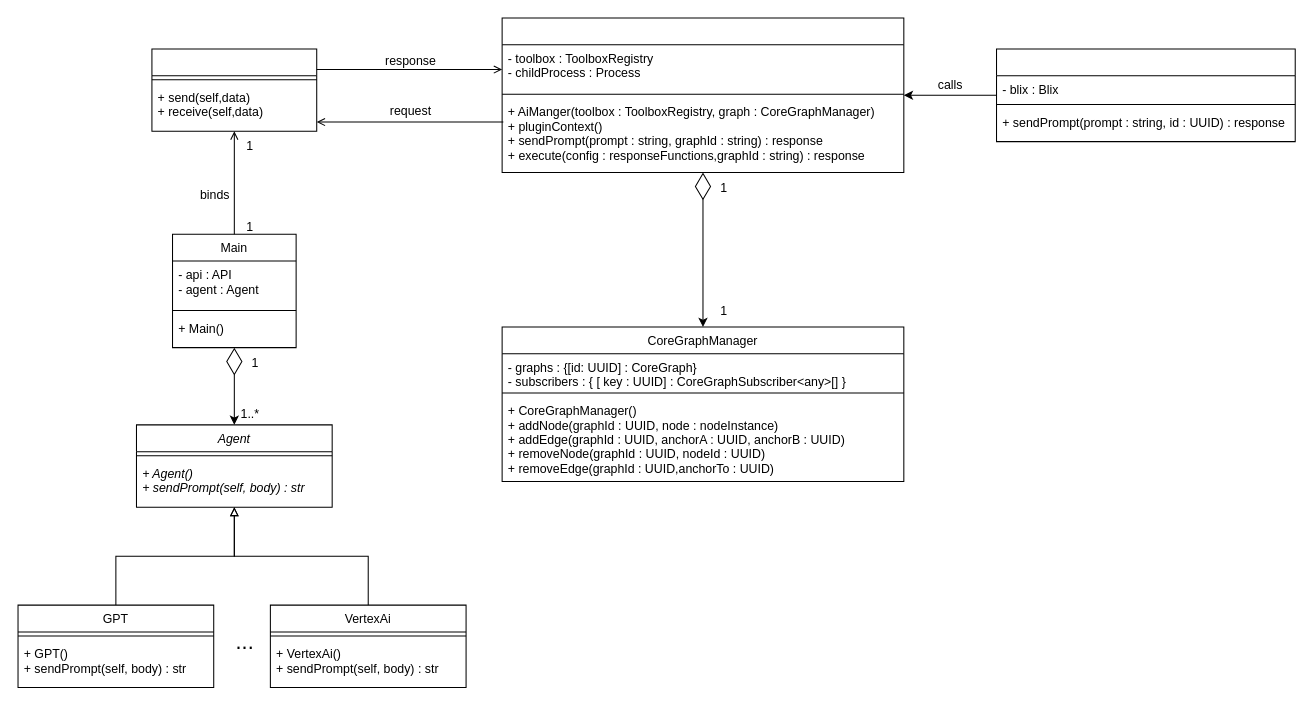
This 1313x706 diagram has some shape labels left out. Here are the shapes that lost their labels. From the top down, the box of each, then its label:
(151, 48, 317, 131): API
(501, 17, 904, 173): AiManager
(995, 48, 1295, 142): UtilApi
